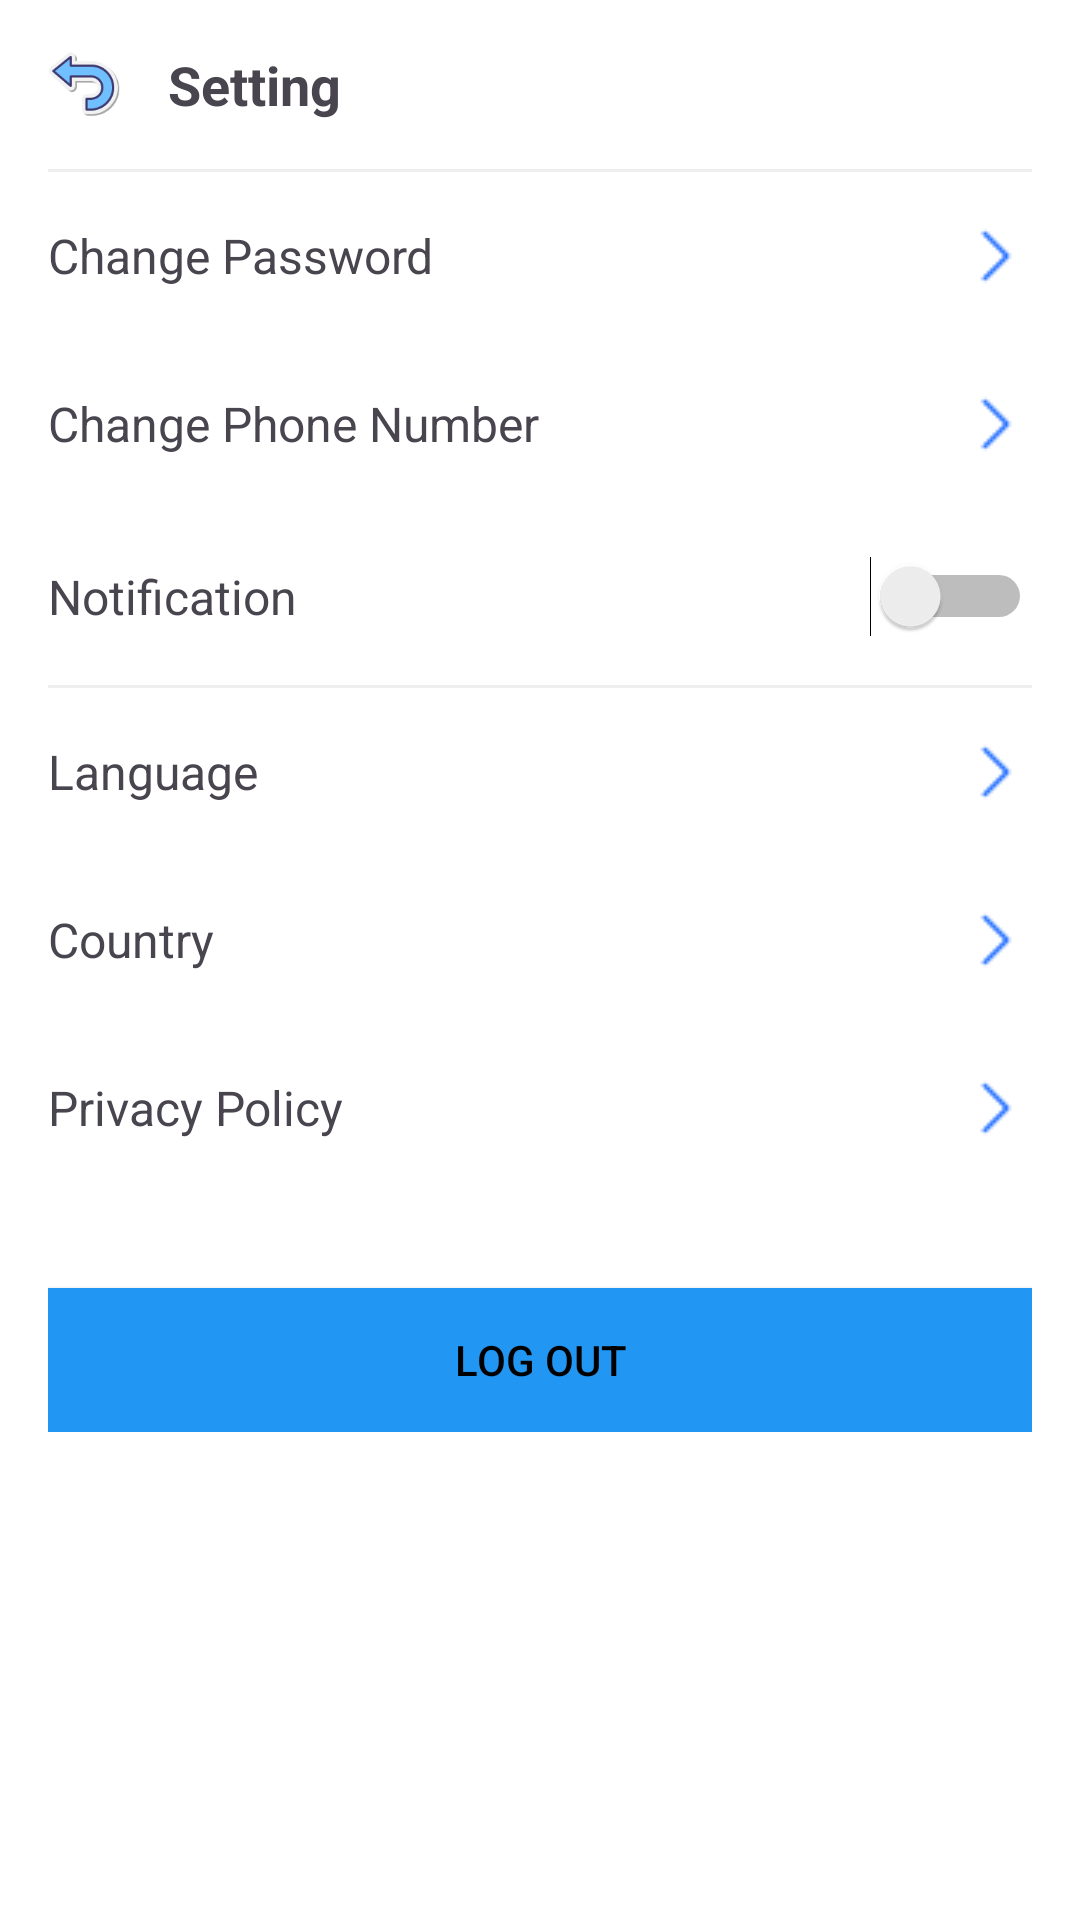

Screen size 1080×1920. Icon name, then its box in pixels as (x1, y1, x2, y2):
Back: (52, 55, 119, 116)
